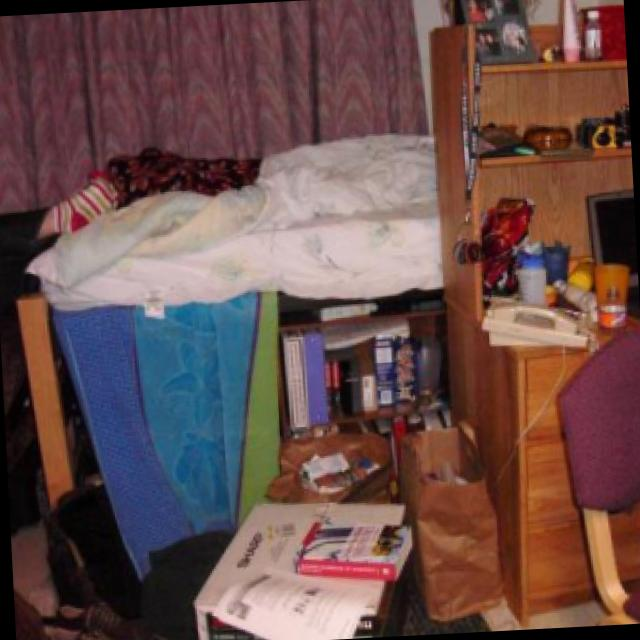mess: (198, 306, 498, 634), (12, 109, 437, 307)
